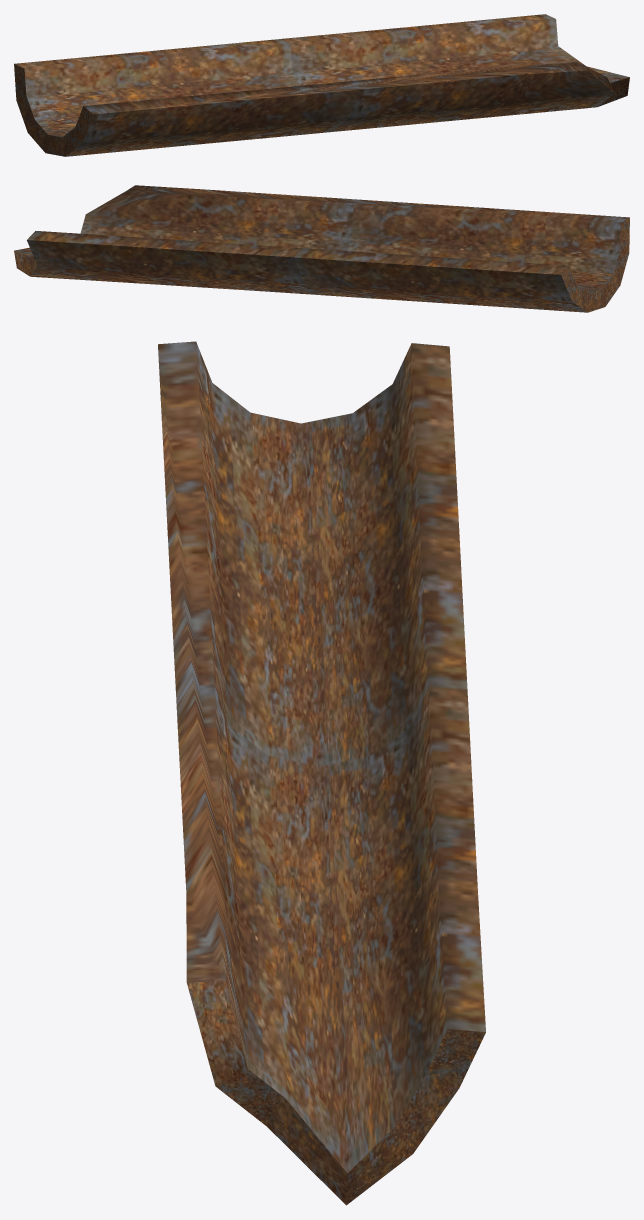
File: CH09_SMAUG_PLAYSURFACE_CAVE16.fbx
3 views of the same model, one above another, from view 1: azimuth 30°, elevation 25°; view 2: azimuth 150°, elevation 25°; view 3: azimuth 270°, elevation 25° (orthographic). The views are drawn at different scales.
Visible parts, largest first — view 1: CH09_SMAUG_PLAYSURFACE_CAVE16; view 2: CH09_SMAUG_PLAYSURFACE_CAVE16; view 3: CH09_SMAUG_PLAYSURFACE_CAVE16.
Boxes of the visible parts, x1=… form: CH09_SMAUG_PLAYSURFACE_CAVE16: x1=14, y1=14, x2=629, y2=156; CH09_SMAUG_PLAYSURFACE_CAVE16: x1=14, y1=185, x2=629, y2=312; CH09_SMAUG_PLAYSURFACE_CAVE16: x1=158, y1=341, x2=485, y2=1205.
Size of the model in its own units: 145592 by 37369 by 35706.
1 material, 1 textured.
